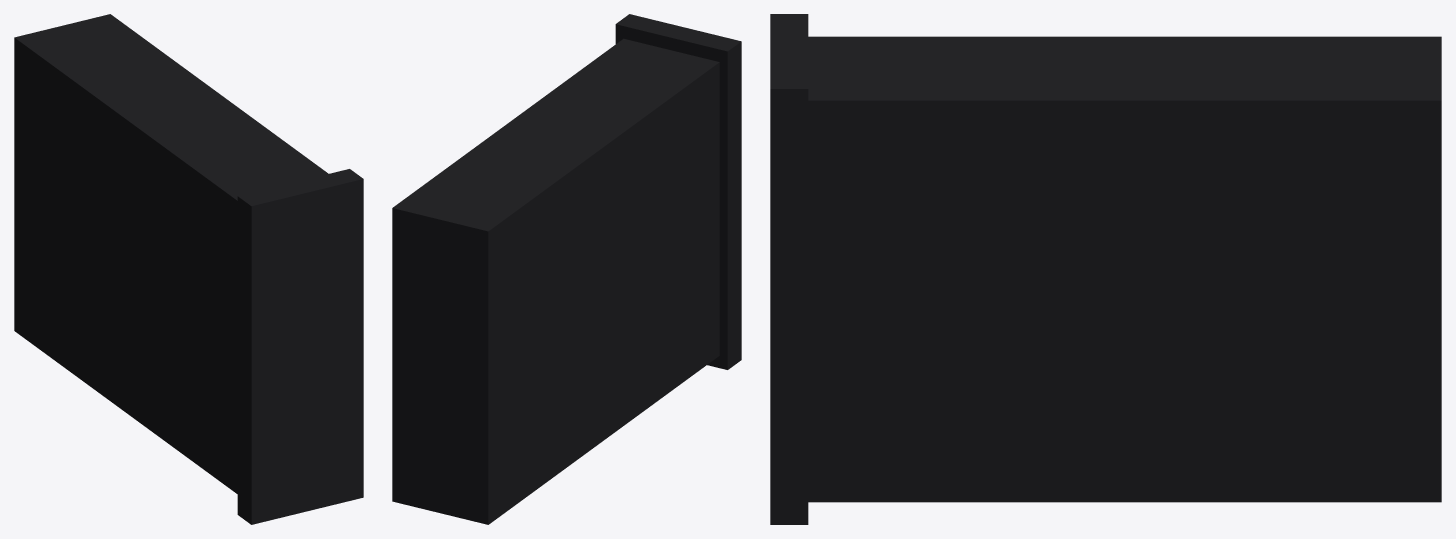
The model's file is AA12_Mag8.fbx.
3 renders of one model, left to right at view 1: azimuth 30°, elevation 25°; view 2: azimuth 150°, elevation 25°; view 3: azimuth 270°, elevation 25°, orthographic. The views are drawn at different scales.
Visible parts, largest first — view 1: prims; view 2: prims; view 3: prims.
Part boxes in pixels (x1,y1,x2,y2): prims: (14,14,363,524); prims: (392,14,741,524); prims: (770,14,1441,524).
Size of the model in its own units: 0.0168 by 0.0456 by 0.0636.
